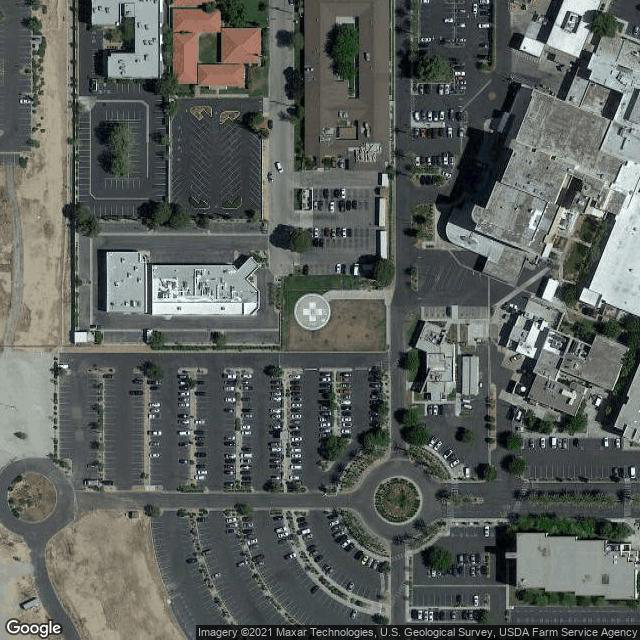Helipad: (294, 291, 333, 331)
